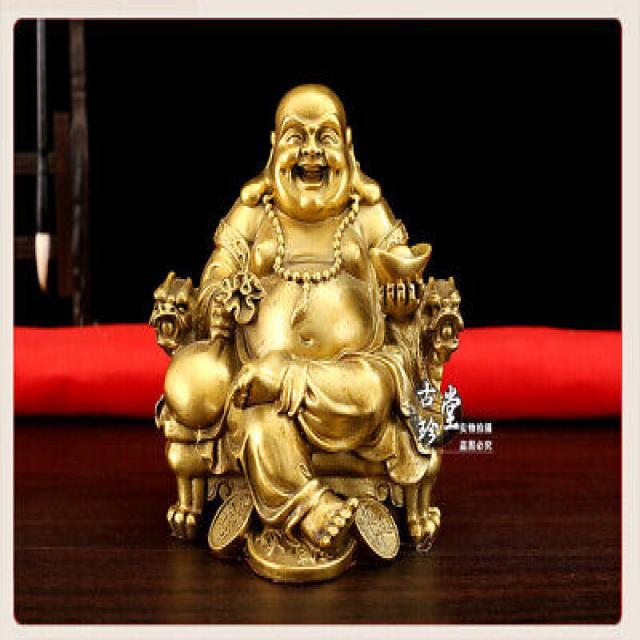Smiling Buddha: (165, 79, 441, 488)
